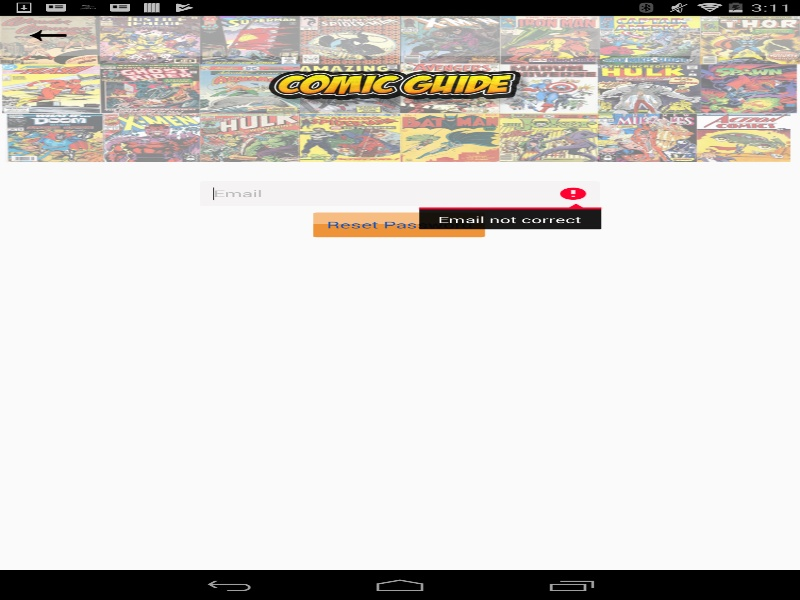Button: (313, 212, 486, 237), (10, 15, 85, 55)
Input: (200, 181, 600, 206)
